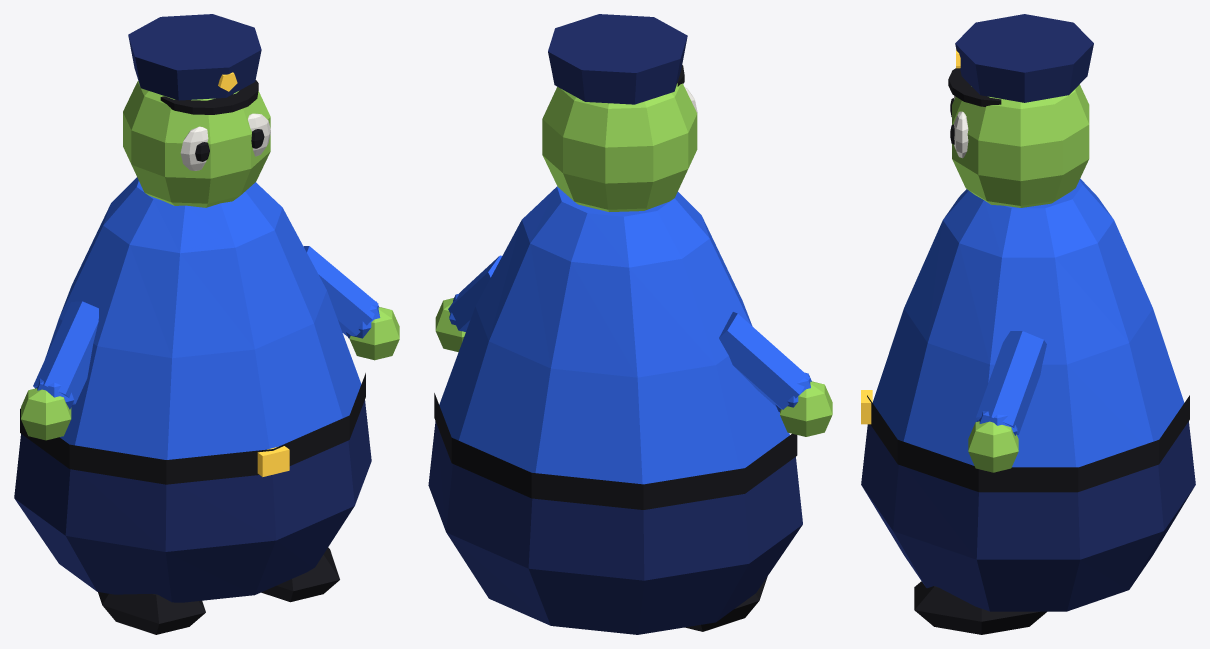
File: cop_2.glb
The picture shows the model from 3 angles, left to right: view 1: azimuth 30°, elevation 25°; view 2: azimuth 150°, elevation 25°; view 3: azimuth 270°, elevation 25°; orthographic projection. The views are drawn at different scales.
Visible parts, largest first — view 1: body_shirt, body_pants, head_skin_lima, cap_cap, body_black, arms_shirt, legs_black, arms_skin_lima, cap_black, face_white, body_gold; view 2: body_shirt, body_pants, head_skin_lima, cap_cap, body_black, arms_shirt, arms_skin_lima, legs_black; view 3: body_shirt, body_pants, head_skin_lima, cap_cap, body_black, arms_shirt, legs_black, arms_skin_lima, cap_black, face_white.
Boxes of the visible parts, x1,y1,x2,y2 form: body_shirt: (45,177,361,459); body_pants: (14,400,371,602); head_skin_lima: (123,81,270,207); cap_cap: (128,14,261,100); body_black: (20,373,365,484); arms_shirt: (33,246,380,409); legs_black: (98,547,339,634); arms_skin_lima: (21,307,399,440); cap_black: (160,80,258,114); face_white: (180,113,270,170); body_gold: (257,446,289,476); body_shirt: (439,186,789,484); body_pants: (428,421,802,634); head_skin_lima: (542,83,697,211); cap_cap: (548,14,687,104); body_black: (434,393,797,509); arms_shirt: (448,255,811,411); arms_skin_lima: (435,298,832,436); legs_black: (684,576,767,631); body_shirt: (872,178,1184,467); body_pants: (861,421,1195,611); head_skin_lima: (952,84,1089,207); cap_cap: (955,14,1093,102); body_black: (867,395,1189,492); arms_shirt: (976,331,1046,435); legs_black: (914,581,1046,634); arms_skin_lima: (968,421,1018,472); cap_black: (948,68,1001,106); face_white: (954,96,968,158).
Bounding box in the file's own units: 1.13 × 1.56 × 0.86.
